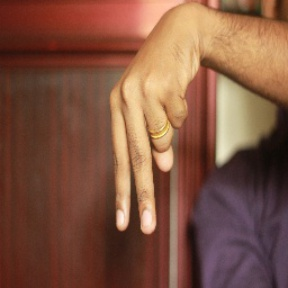Y: (100, 24, 198, 237)
